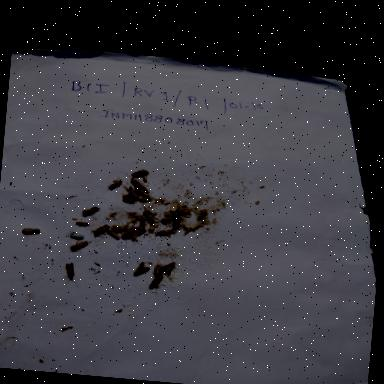pbw: (58, 260, 82, 286), (158, 255, 181, 279), (78, 202, 104, 220), (130, 260, 152, 281), (68, 237, 92, 256), (148, 270, 168, 292), (20, 225, 43, 242), (153, 226, 178, 240), (88, 223, 111, 238), (128, 166, 152, 180), (136, 216, 151, 236), (106, 176, 124, 192), (118, 224, 136, 240), (170, 210, 183, 232), (125, 175, 144, 190), (136, 186, 155, 200), (105, 228, 123, 242), (109, 222, 129, 234), (141, 209, 157, 224), (151, 261, 165, 278), (128, 226, 142, 242), (196, 207, 210, 223), (72, 219, 92, 230), (175, 206, 195, 217), (170, 200, 184, 214), (159, 213, 174, 225), (128, 186, 140, 198)
